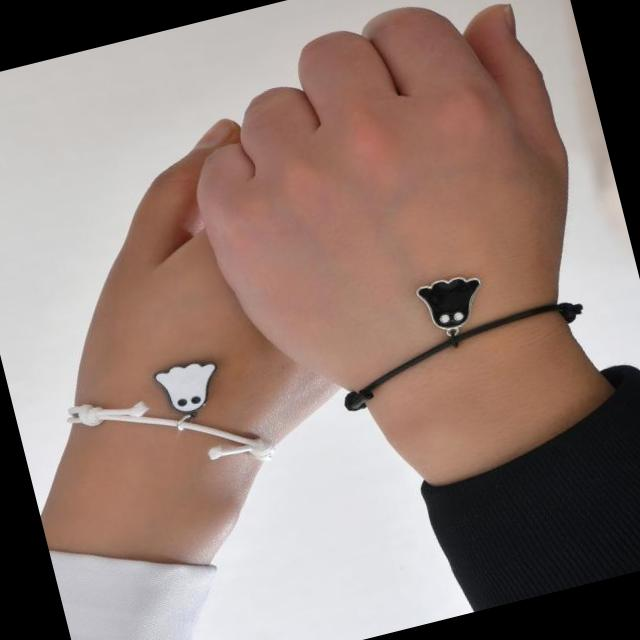Nail: (193, 117, 232, 150)
